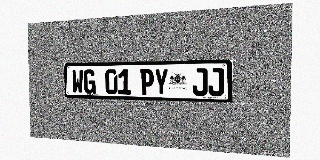0: (105, 69, 118, 94)
1: (118, 69, 131, 94)
G: (84, 69, 96, 94)
J: (192, 68, 208, 96), (208, 68, 224, 96)
P: (140, 69, 154, 95)
W: (72, 70, 83, 94)
Y: (154, 68, 168, 95)
